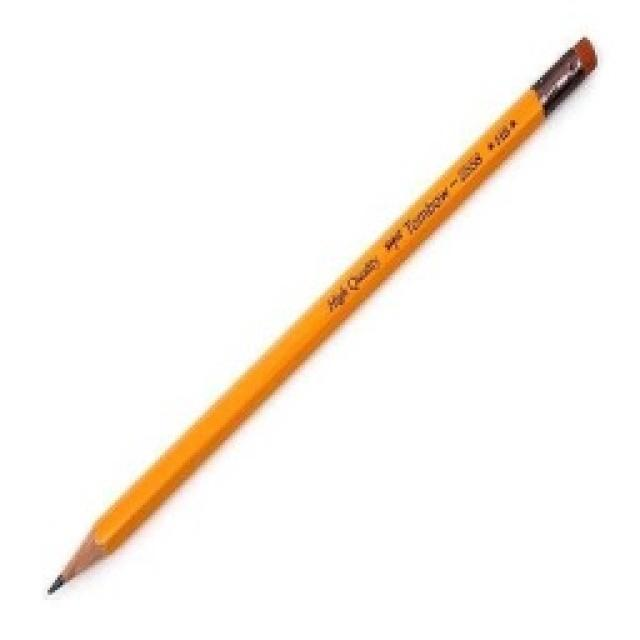pencil: (40, 30, 602, 598)
